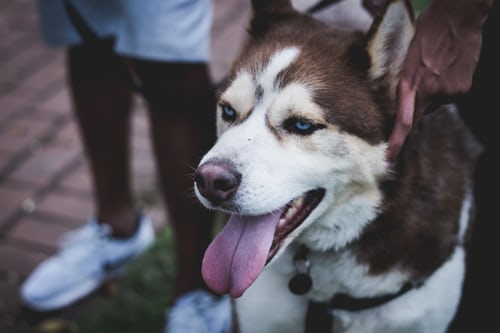husky: (185, 4, 439, 302)
